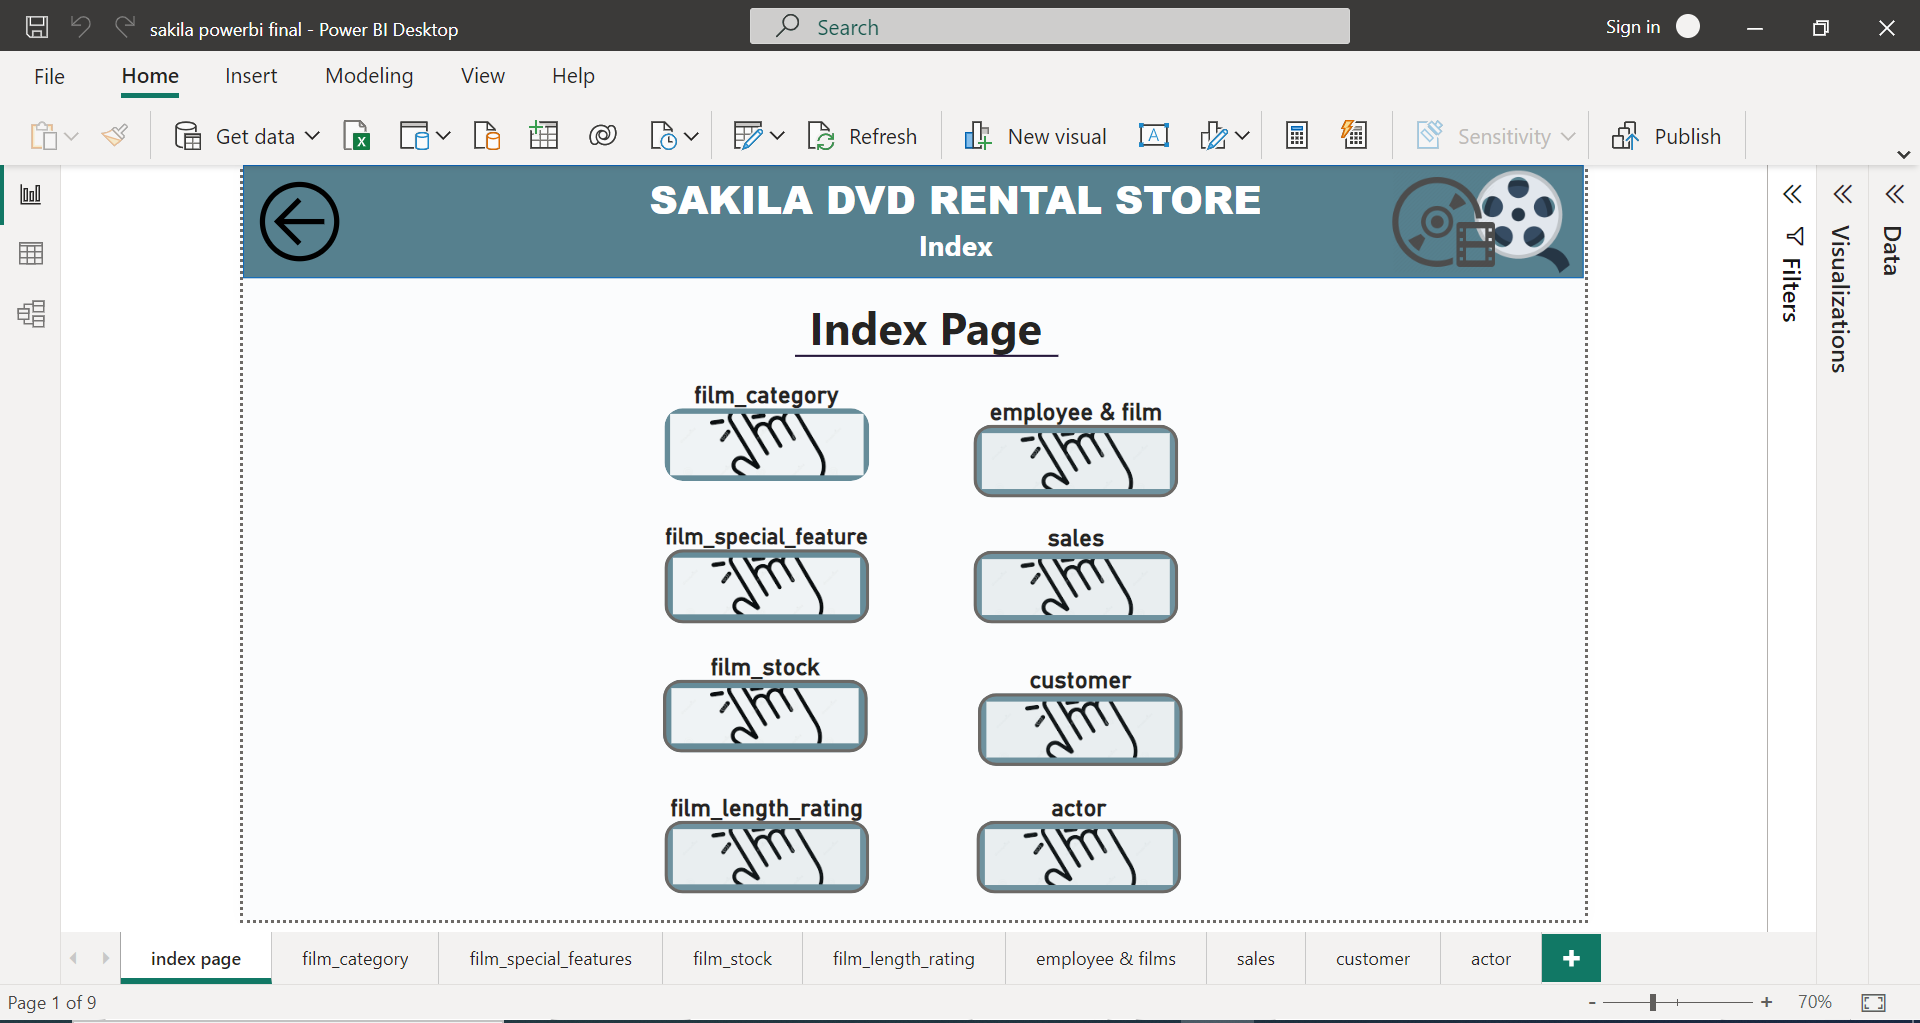

The page's visual inventory and layout, read from the dashboard file:
{"tool":"powerbi","page":{"name":"index page","canvas":[1280,720],"ordinal":0},"visuals":[{"type":"shape","box":[0,0,1279.5,108.1],"z":0},{"type":"image","box":[1160.3,0,119.2,108.1],"z":1000},{"type":"image","box":[1090.3,0,109.7,108.1],"z":2000},{"type":"textbox","box":[282.9,0,793.1,120.8],"z":3000},{"type":"actionButton","title":"film_special_feature","box":[402.1,341.7,195,95],"z":4000},{"type":"textbox","box":[321.1,120.8,661.2,85.8],"z":5000},{"type":"actionButton","title":"film_stock","box":[400.5,465.7,195,95],"z":6000},{"type":"actionButton","title":"employee & film","box":[697.7,222.5,195.5,95.4],"z":7000},{"type":"actionButton","title":"film_length_rating","box":[402.1,599.2,195,95],"z":8000},{"type":"actionButton","title":"sales","box":[697.7,341.7,195.5,95.4],"z":9000},{"type":"actionButton","title":"actor","box":[699.3,599.2,195.5,95.4],"z":10000},{"type":"actionButton","title":"customer","box":[700.9,478.4,195.5,95.4],"z":11000},{"type":"actionButton","title":"film_category","box":[402.1,206.6,195,95],"z":13000},{"type":"shape","box":[526.1,157.4,251.1,49.3],"z":15000},{"type":"actionButton","box":[0,0,109.7,108.1],"z":20000}]}

Visuals, with their boxes on the page's 1280x720 design canvas (x1, y1, x2, y2). These are canvas units, not pixel positions in the 1920x1023 screenshot, which may show the page scaled, cropped or inside an application window:
shape: {"x1": 0, "y1": 0, "x2": 1280, "y2": 108}
image: {"x1": 1160, "y1": 0, "x2": 1280, "y2": 108}
image: {"x1": 1090, "y1": 0, "x2": 1200, "y2": 108}
textbox: {"x1": 283, "y1": 0, "x2": 1076, "y2": 121}
"film_special_feature" actionButton: {"x1": 402, "y1": 342, "x2": 597, "y2": 437}
textbox: {"x1": 321, "y1": 121, "x2": 982, "y2": 207}
"film_stock" actionButton: {"x1": 400, "y1": 466, "x2": 596, "y2": 561}
"employee & film" actionButton: {"x1": 698, "y1": 222, "x2": 893, "y2": 318}
"film_length_rating" actionButton: {"x1": 402, "y1": 599, "x2": 597, "y2": 694}
"sales" actionButton: {"x1": 698, "y1": 342, "x2": 893, "y2": 437}
"actor" actionButton: {"x1": 699, "y1": 599, "x2": 895, "y2": 695}
"customer" actionButton: {"x1": 701, "y1": 478, "x2": 896, "y2": 574}
"film_category" actionButton: {"x1": 402, "y1": 207, "x2": 597, "y2": 302}
shape: {"x1": 526, "y1": 157, "x2": 777, "y2": 207}
actionButton: {"x1": 0, "y1": 0, "x2": 110, "y2": 108}
